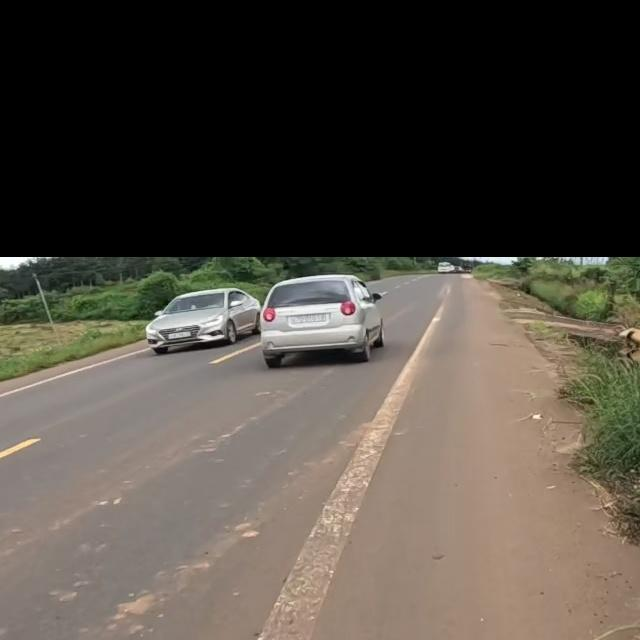license-plate: (287, 313, 327, 326)
